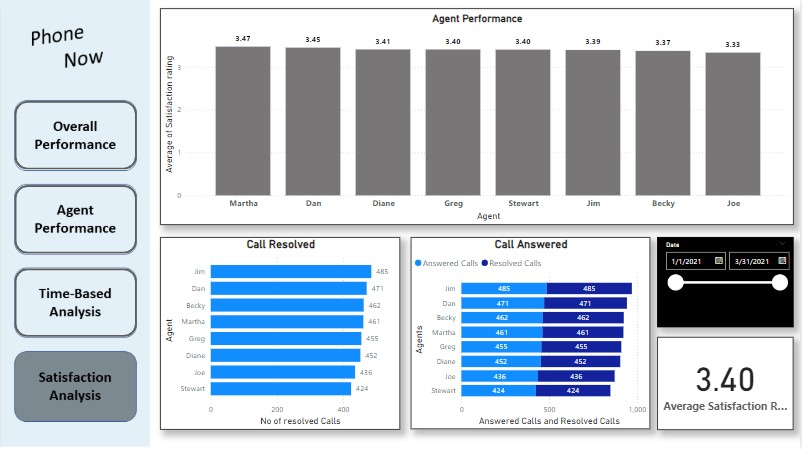

What the dashboard file says about the page in this screenshot:
{"tool":"powerbi","page":{"name":"Satisafaction","canvas":[1280,720],"ordinal":3},"visuals":[{"type":"actionButton","box":[22,296,196,110],"z":0},{"type":"actionButton","box":[22,430,196,110],"z":1000},{"type":"actionButton","box":[22,162,196,110],"z":2000},{"type":"columnChart","title":"Agent Performance","fields":{"Category":["Call.Agent"],"Y":["Avg(Call.Satisfaction rating)"]},"box":[255,13.3,1015,346.7],"z":3000},{"type":"barChart","title":"Call Resolved","fields":{"Category":["Call.Agent"],"Y":["CountNonNull(Call.Resolved)"]},"box":[255,380,385,308.3],"z":4000},{"type":"barChart","title":"Call Answered","fields":{"Category":["Call.Agent"],"Y":["CountNonNull(Call.Answered (Y/N))","CountNonNull(Call.Resolved)"]},"box":[656,380,384,308],"z":5000},{"type":"slicer","fields":{"Values":["Call.Date"]},"box":[1051.4,380,218.6,144.3],"z":6000},{"type":"card","title":"Average Speed of answer","fields":{"Values":["Call.AvgSatisfactionRating"]},"box":[1051.4,540,218.6,148.6],"z":7000}]}

Visuals, with their boxes in screenshot pixels (x1, y1, x2, y2), scaled from the page's 1280x720 canvas onto the 802x449 screenshot:
actionButton: detection(14, 185, 137, 253)
actionButton: detection(14, 268, 137, 337)
actionButton: detection(14, 101, 137, 170)
"Agent Performance" columnChart: detection(160, 8, 796, 224)
"Call Resolved" barChart: detection(160, 237, 401, 429)
"Call Answered" barChart: detection(411, 237, 652, 429)
slicer - Call.Date: detection(659, 237, 796, 327)
"Average Speed of answer" card: detection(659, 337, 796, 429)
